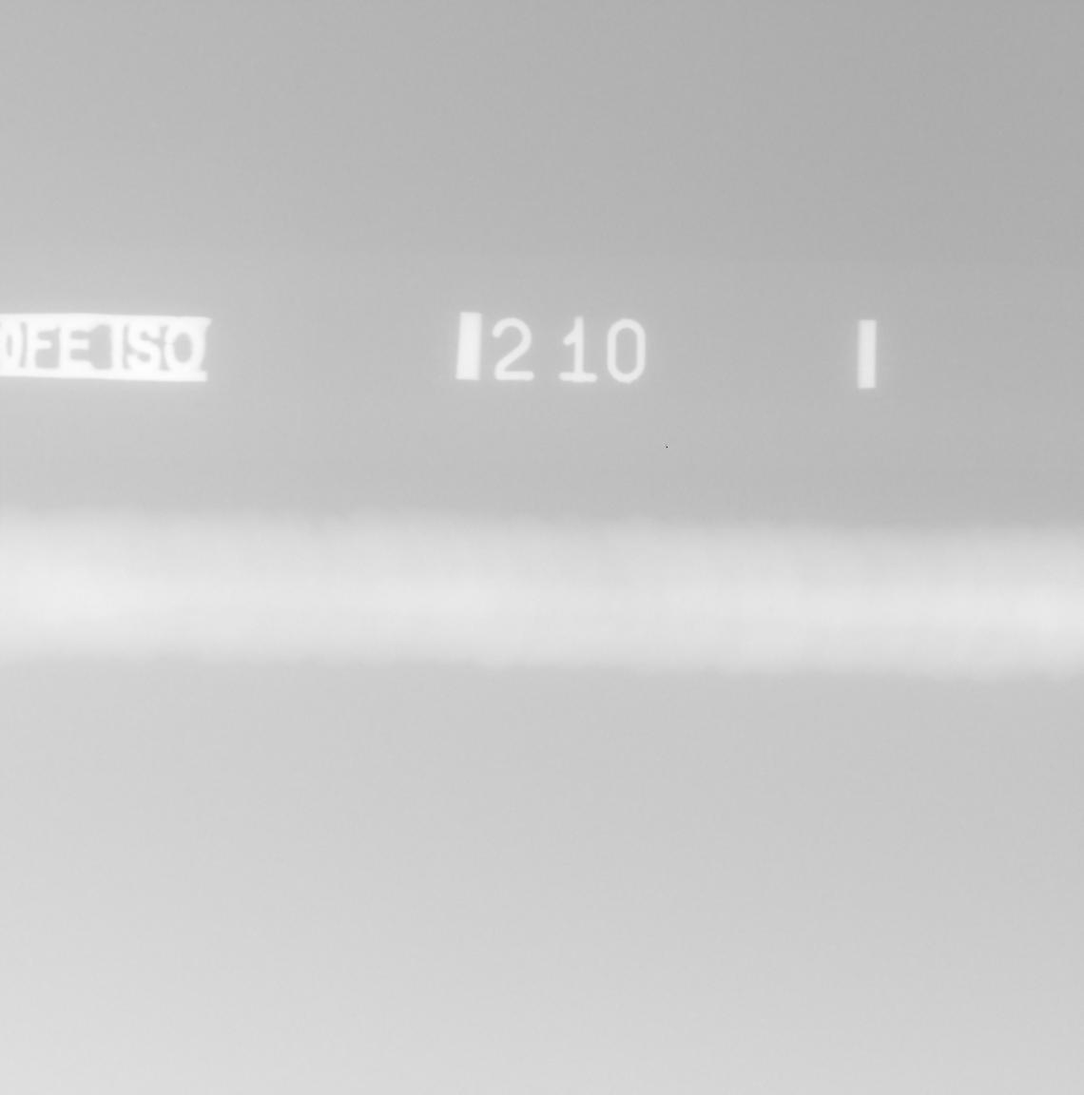Pore/Porosity: (768, 605, 772, 614)
